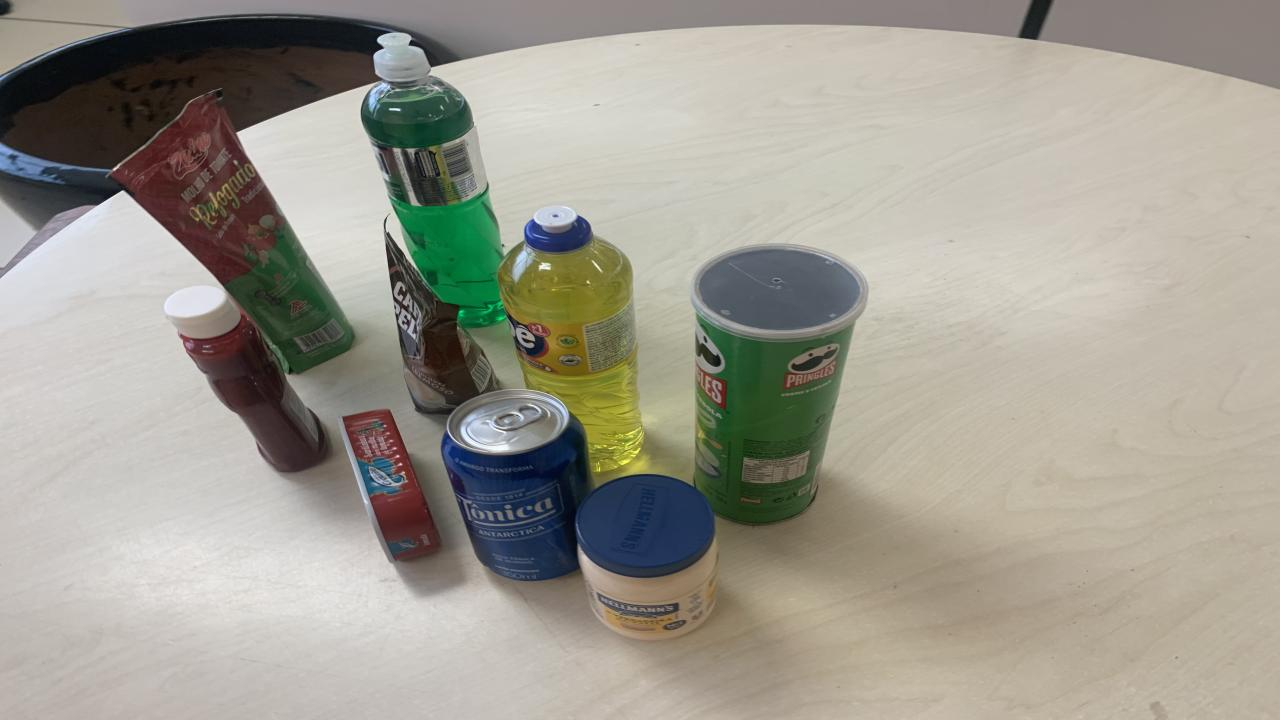Coffee-Pantry_Items: (382, 227, 500, 414)
Detergent-Cleanup_Items: (360, 34, 505, 328), (498, 206, 642, 471)
Ketchup-Pantry_Items: (165, 287, 328, 471)
Mayonnaise-Pantry_Items: (575, 474, 718, 639)
Pringles-Snacks: (690, 244, 868, 523)
Tomato_Sauce-Pantry_Items: (112, 90, 355, 371)
Tonic-Drinks: (442, 390, 595, 581)
Tuna_Can-Pantry_Items: (338, 409, 442, 562)
